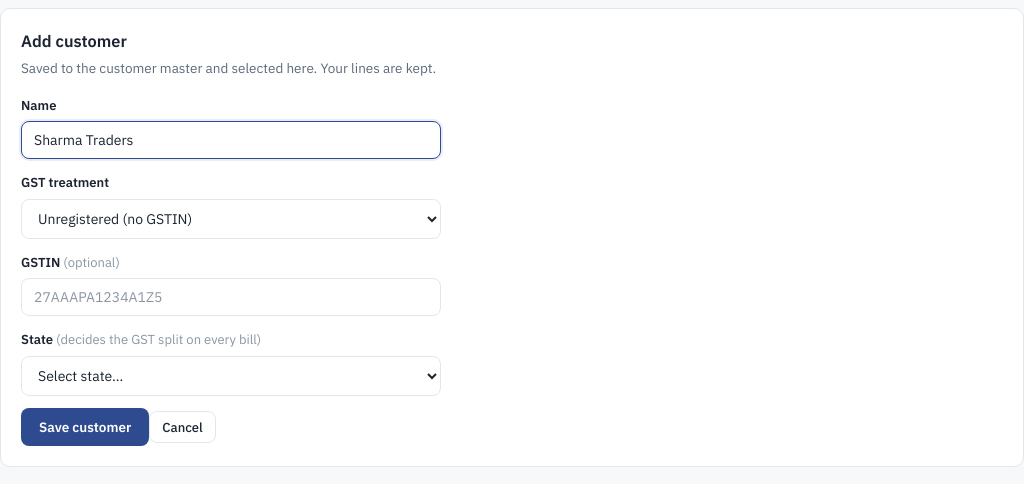
Test: <QuickAddCustomer> › does not offer to promote a company that is already an active customer
The image size is (1024, 484).
Select "09 — Uttar Pradesh" in the dropdown labelled "State (decides the GST split on every bill)" at (231, 376), box [21,356,441,396]
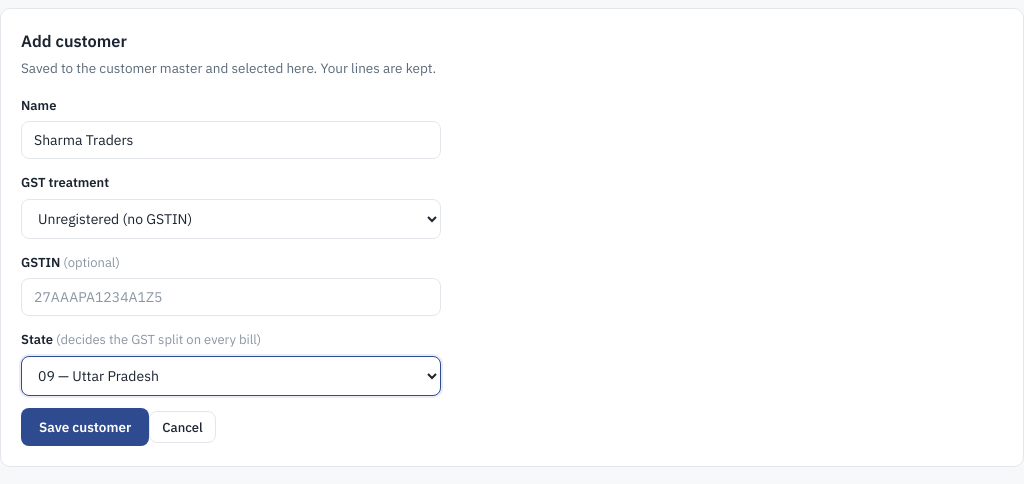
Click the button "Save customer" at (85, 427), box [21,408,149,446]
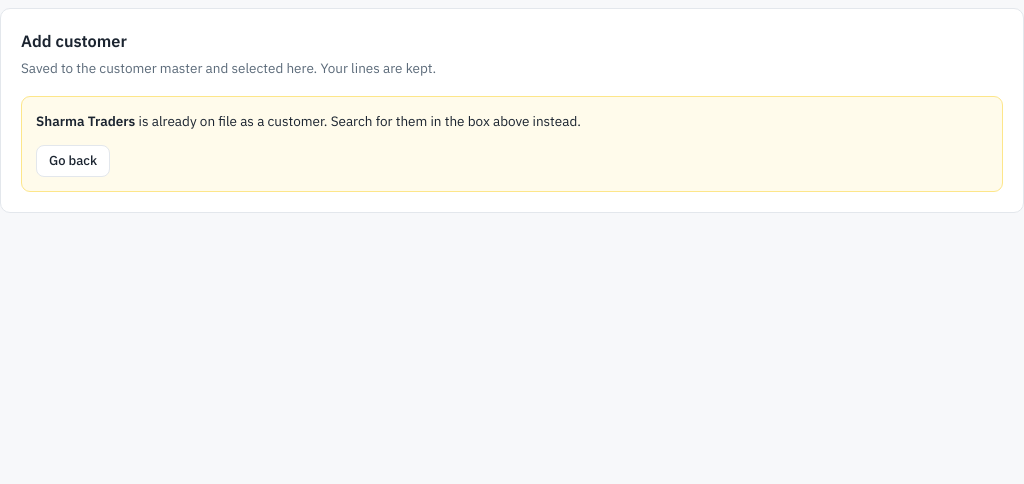
Now the text "Search for them in the box above" is shown, box [328,112,581,130]
